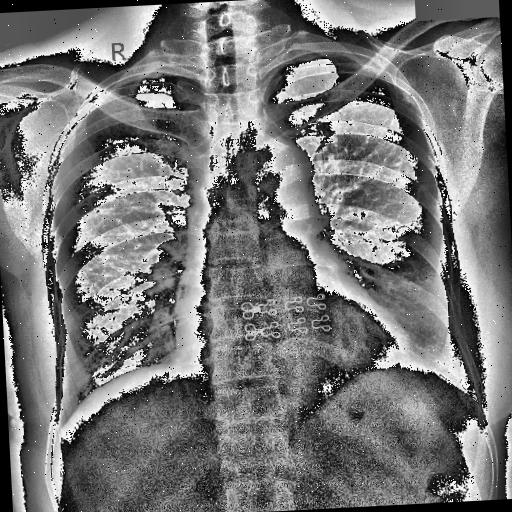0- Aortic enlargement: (246, 136, 318, 214)
11- Pleural thickening: (288, 52, 325, 66)
3- Cardiomegaly: (170, 293, 420, 384), (172, 298, 413, 380), (172, 308, 410, 384)
